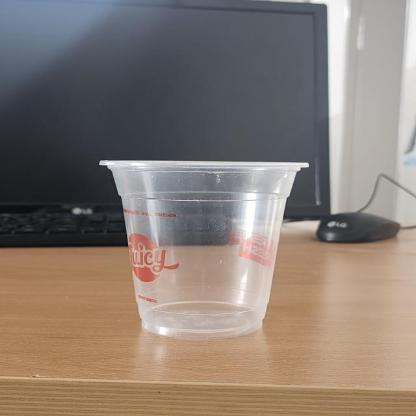Plastic Cup: (97, 157, 311, 339)
